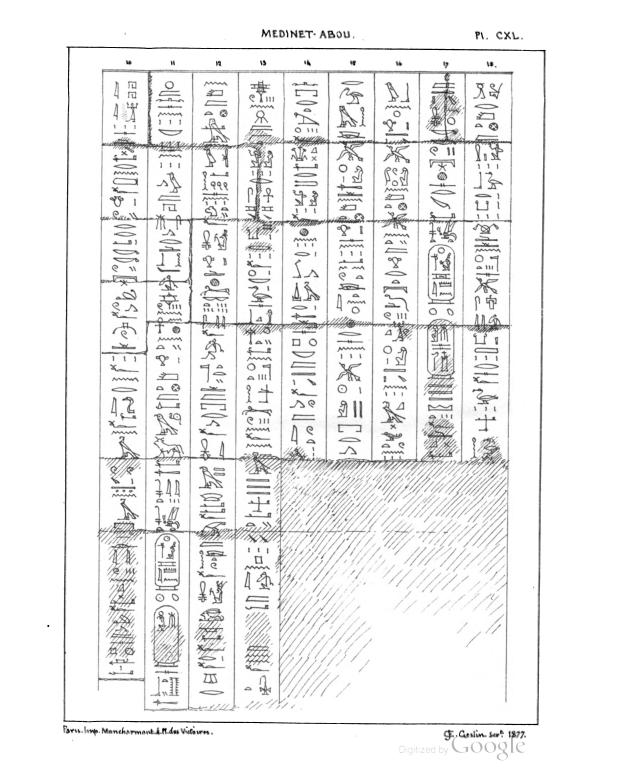circle: (149, 605, 183, 670), (424, 316, 457, 382), (427, 243, 460, 306), (151, 532, 184, 593)
